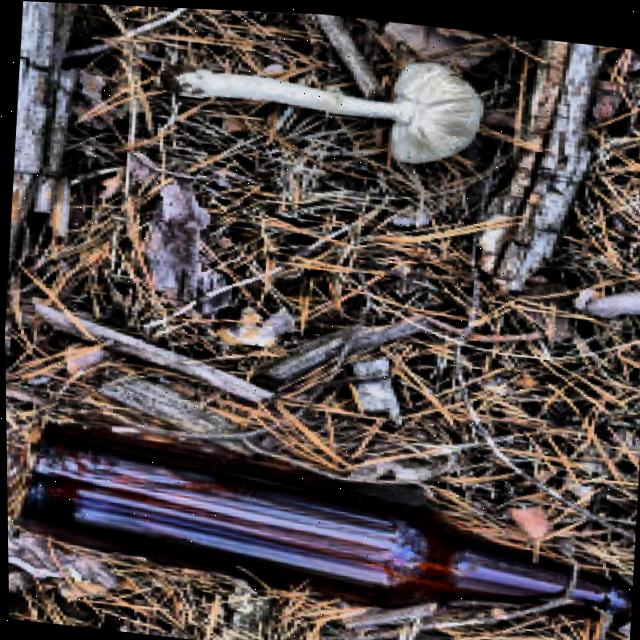glass: (6, 420, 631, 617)
